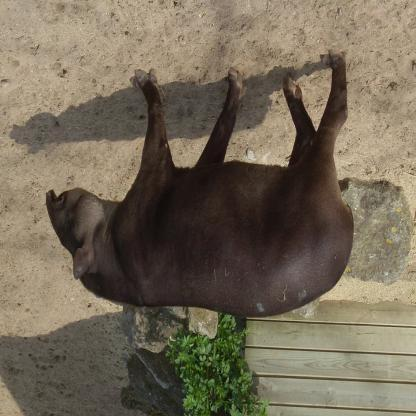boar: (46, 50, 354, 318)
